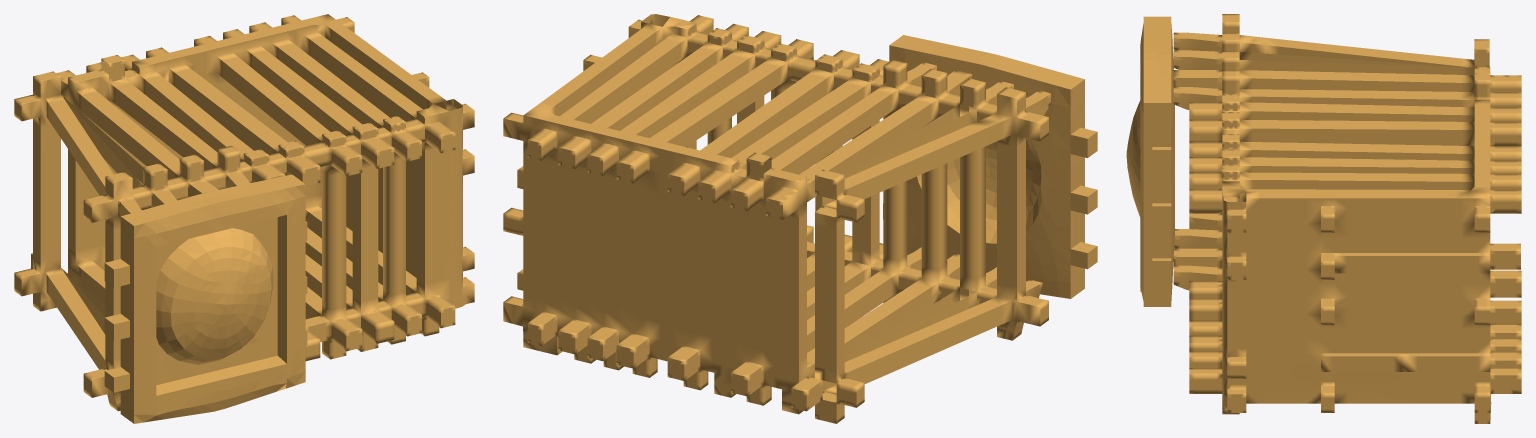
File: buildings_1.fbx
3 views of the same model, side by side, from view 1: azimuth 30°, elevation 25°; view 2: azimuth 150°, elevation 25°; view 3: azimuth 270°, elevation 25° (orthographic). The views are drawn at different scales.
Parts seen in each view (by area): view 1: Retopo_Adobe_Express_file_Three_dimensional_model_of_a__cb54 (×2); view 2: Retopo_Adobe_Express_file_Three_dimensional_model_of_a__cb54 (×2); view 3: Retopo_Adobe_Express_file_Three_dimensional_model_of_a__cb54 (×2).
Boxes of the visible parts, x1=… form: Retopo_Adobe_Express_file_Three_dimensional_model_of_a__cb54 (×2): x1=14, y1=14, x2=474, y2=423; Retopo_Adobe_Express_file_Three_dimensional_model_of_a__cb54 (×2): x1=503, y1=14, x2=1097, y2=423; Retopo_Adobe_Express_file_Three_dimensional_model_of_a__cb54 (×2): x1=1126, y1=14, x2=1521, y2=423.
Size of what is drawn, in the model's own units: 2358 by 1307 by 1971.
